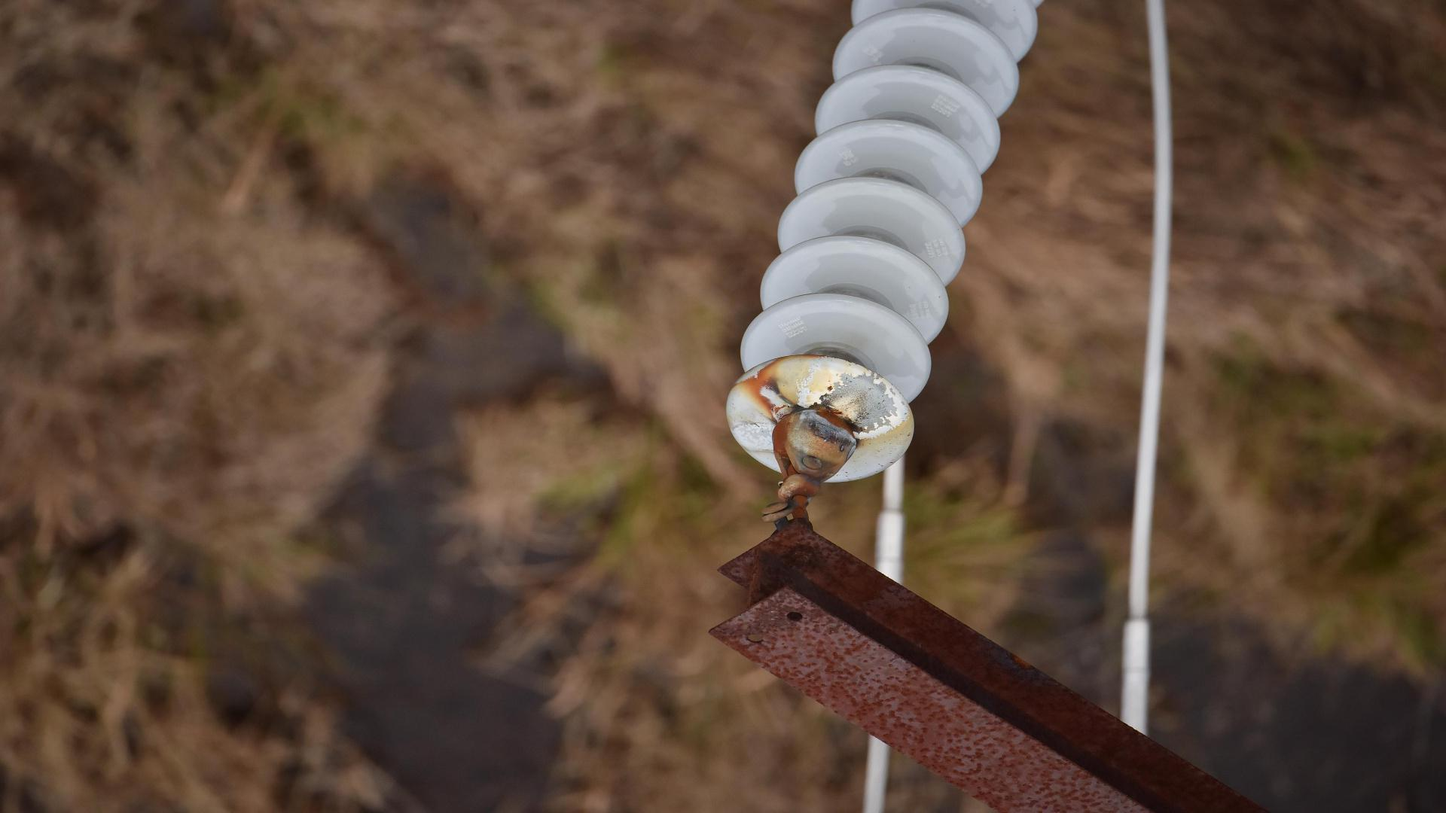insulator: (718, 1, 1042, 491)
insulator_flashover: (816, 369, 909, 440), (729, 419, 778, 453)
